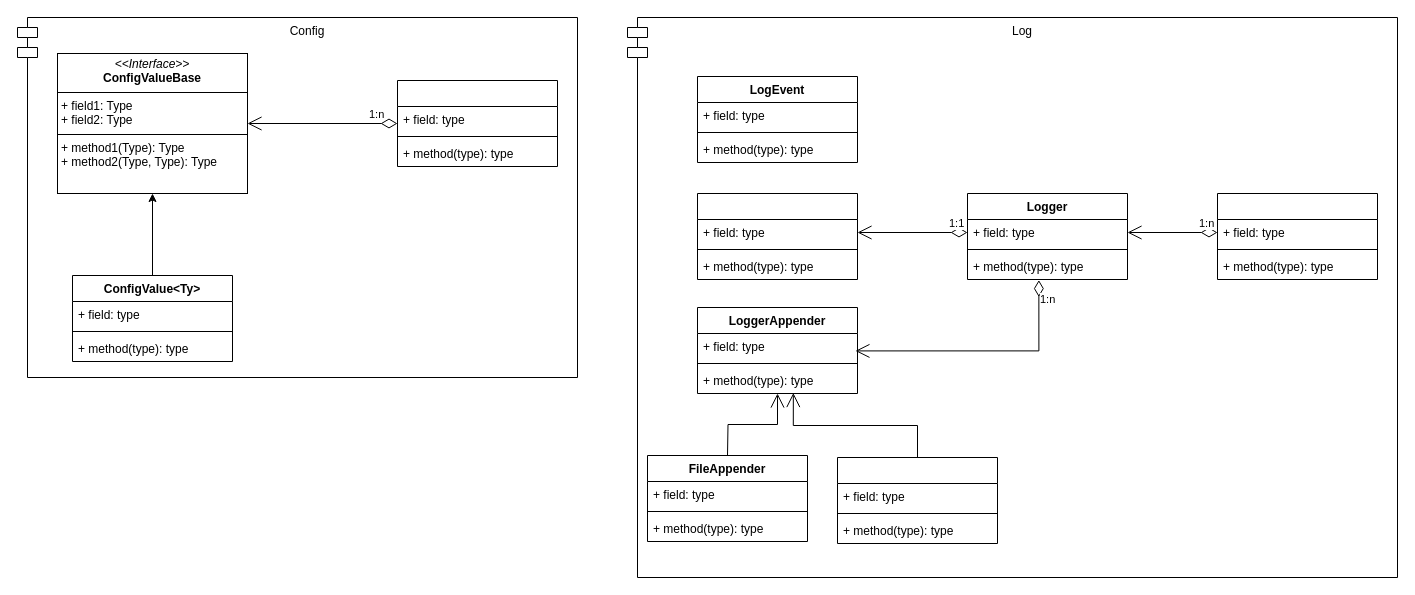
Image size: 1415x595. Some labels were removed from this diagram. The shapes that lost their labels are listed below. From the top down, each one's box as (x1, y1, x2, y2) in pixels, then its label:
(396, 80, 558, 166): ConfigManager
(696, 192, 858, 280): LogFormatter
(1216, 192, 1378, 280): LoggerManager
(836, 456, 998, 544): ConsolAppender
